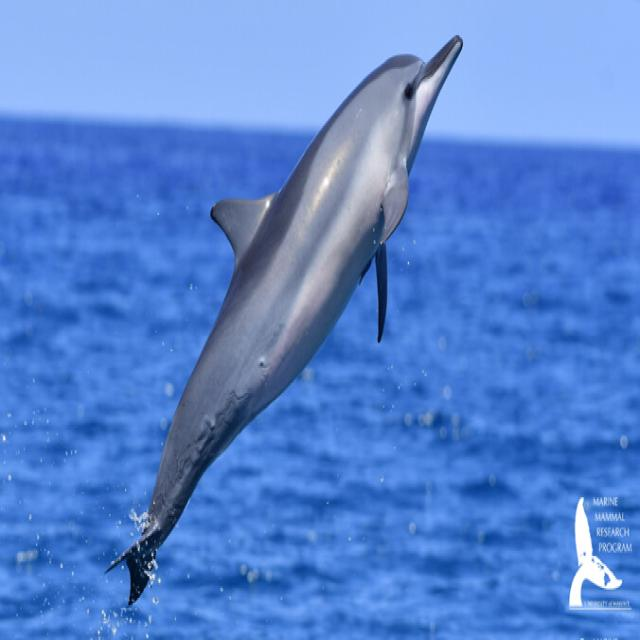dolphin: (111, 38, 462, 602)
